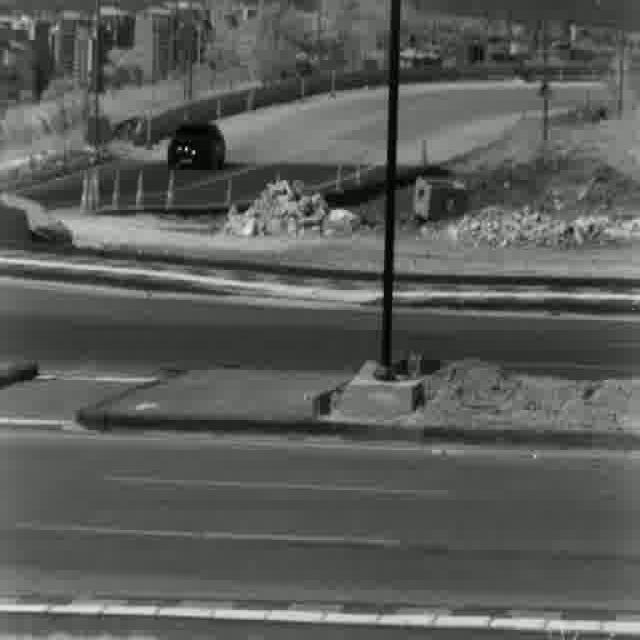Car: (166, 122, 228, 172)
